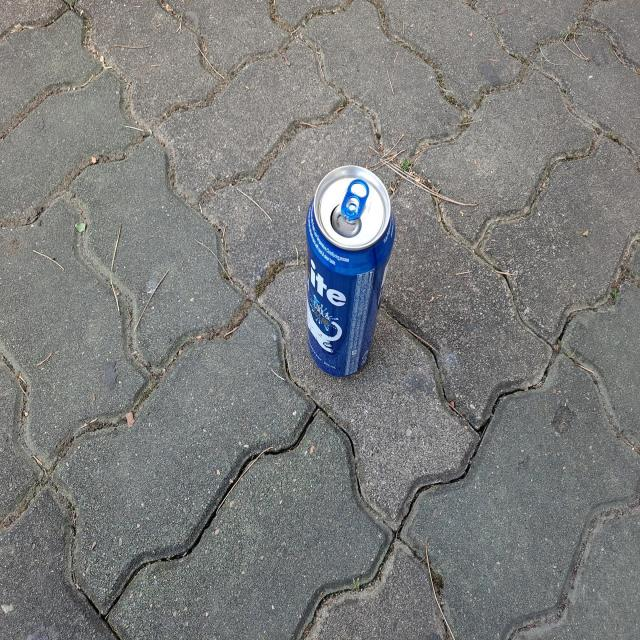can: (306, 165, 395, 377)
